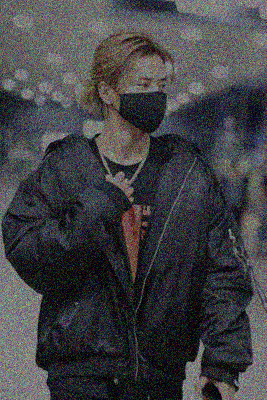with_mask: (115, 75, 169, 135)
